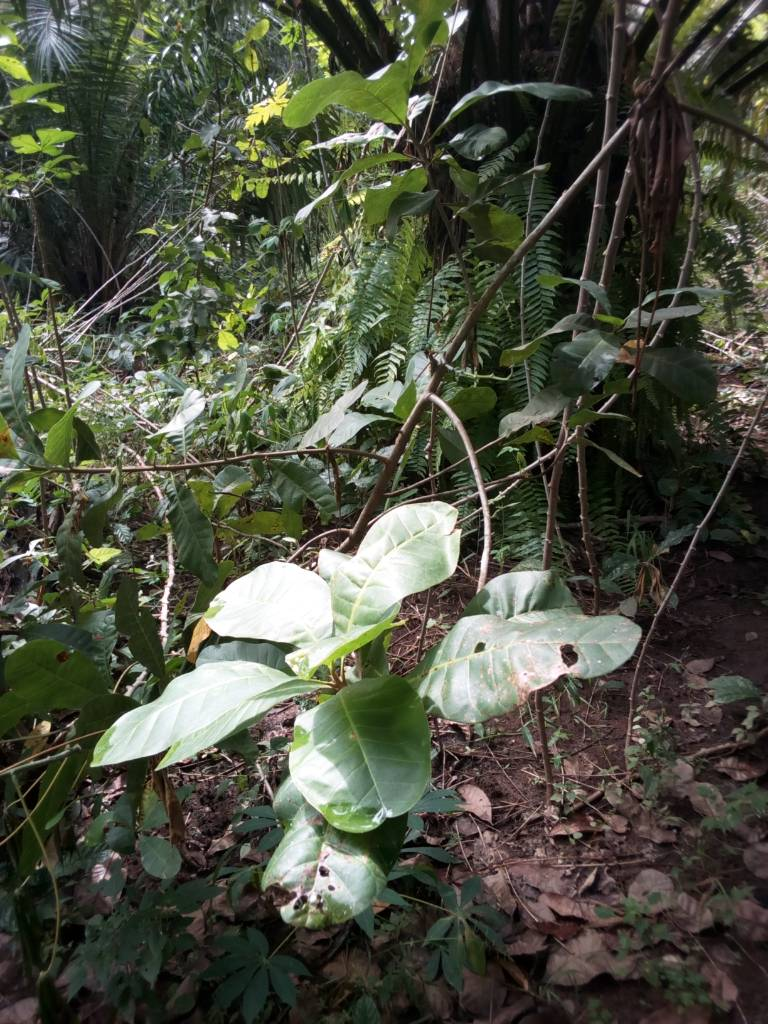Anoplonemis curvipes: (436, 617, 641, 691), (265, 846, 379, 925)
